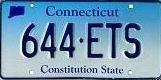placa de veiculo: (2, 0, 152, 76)
